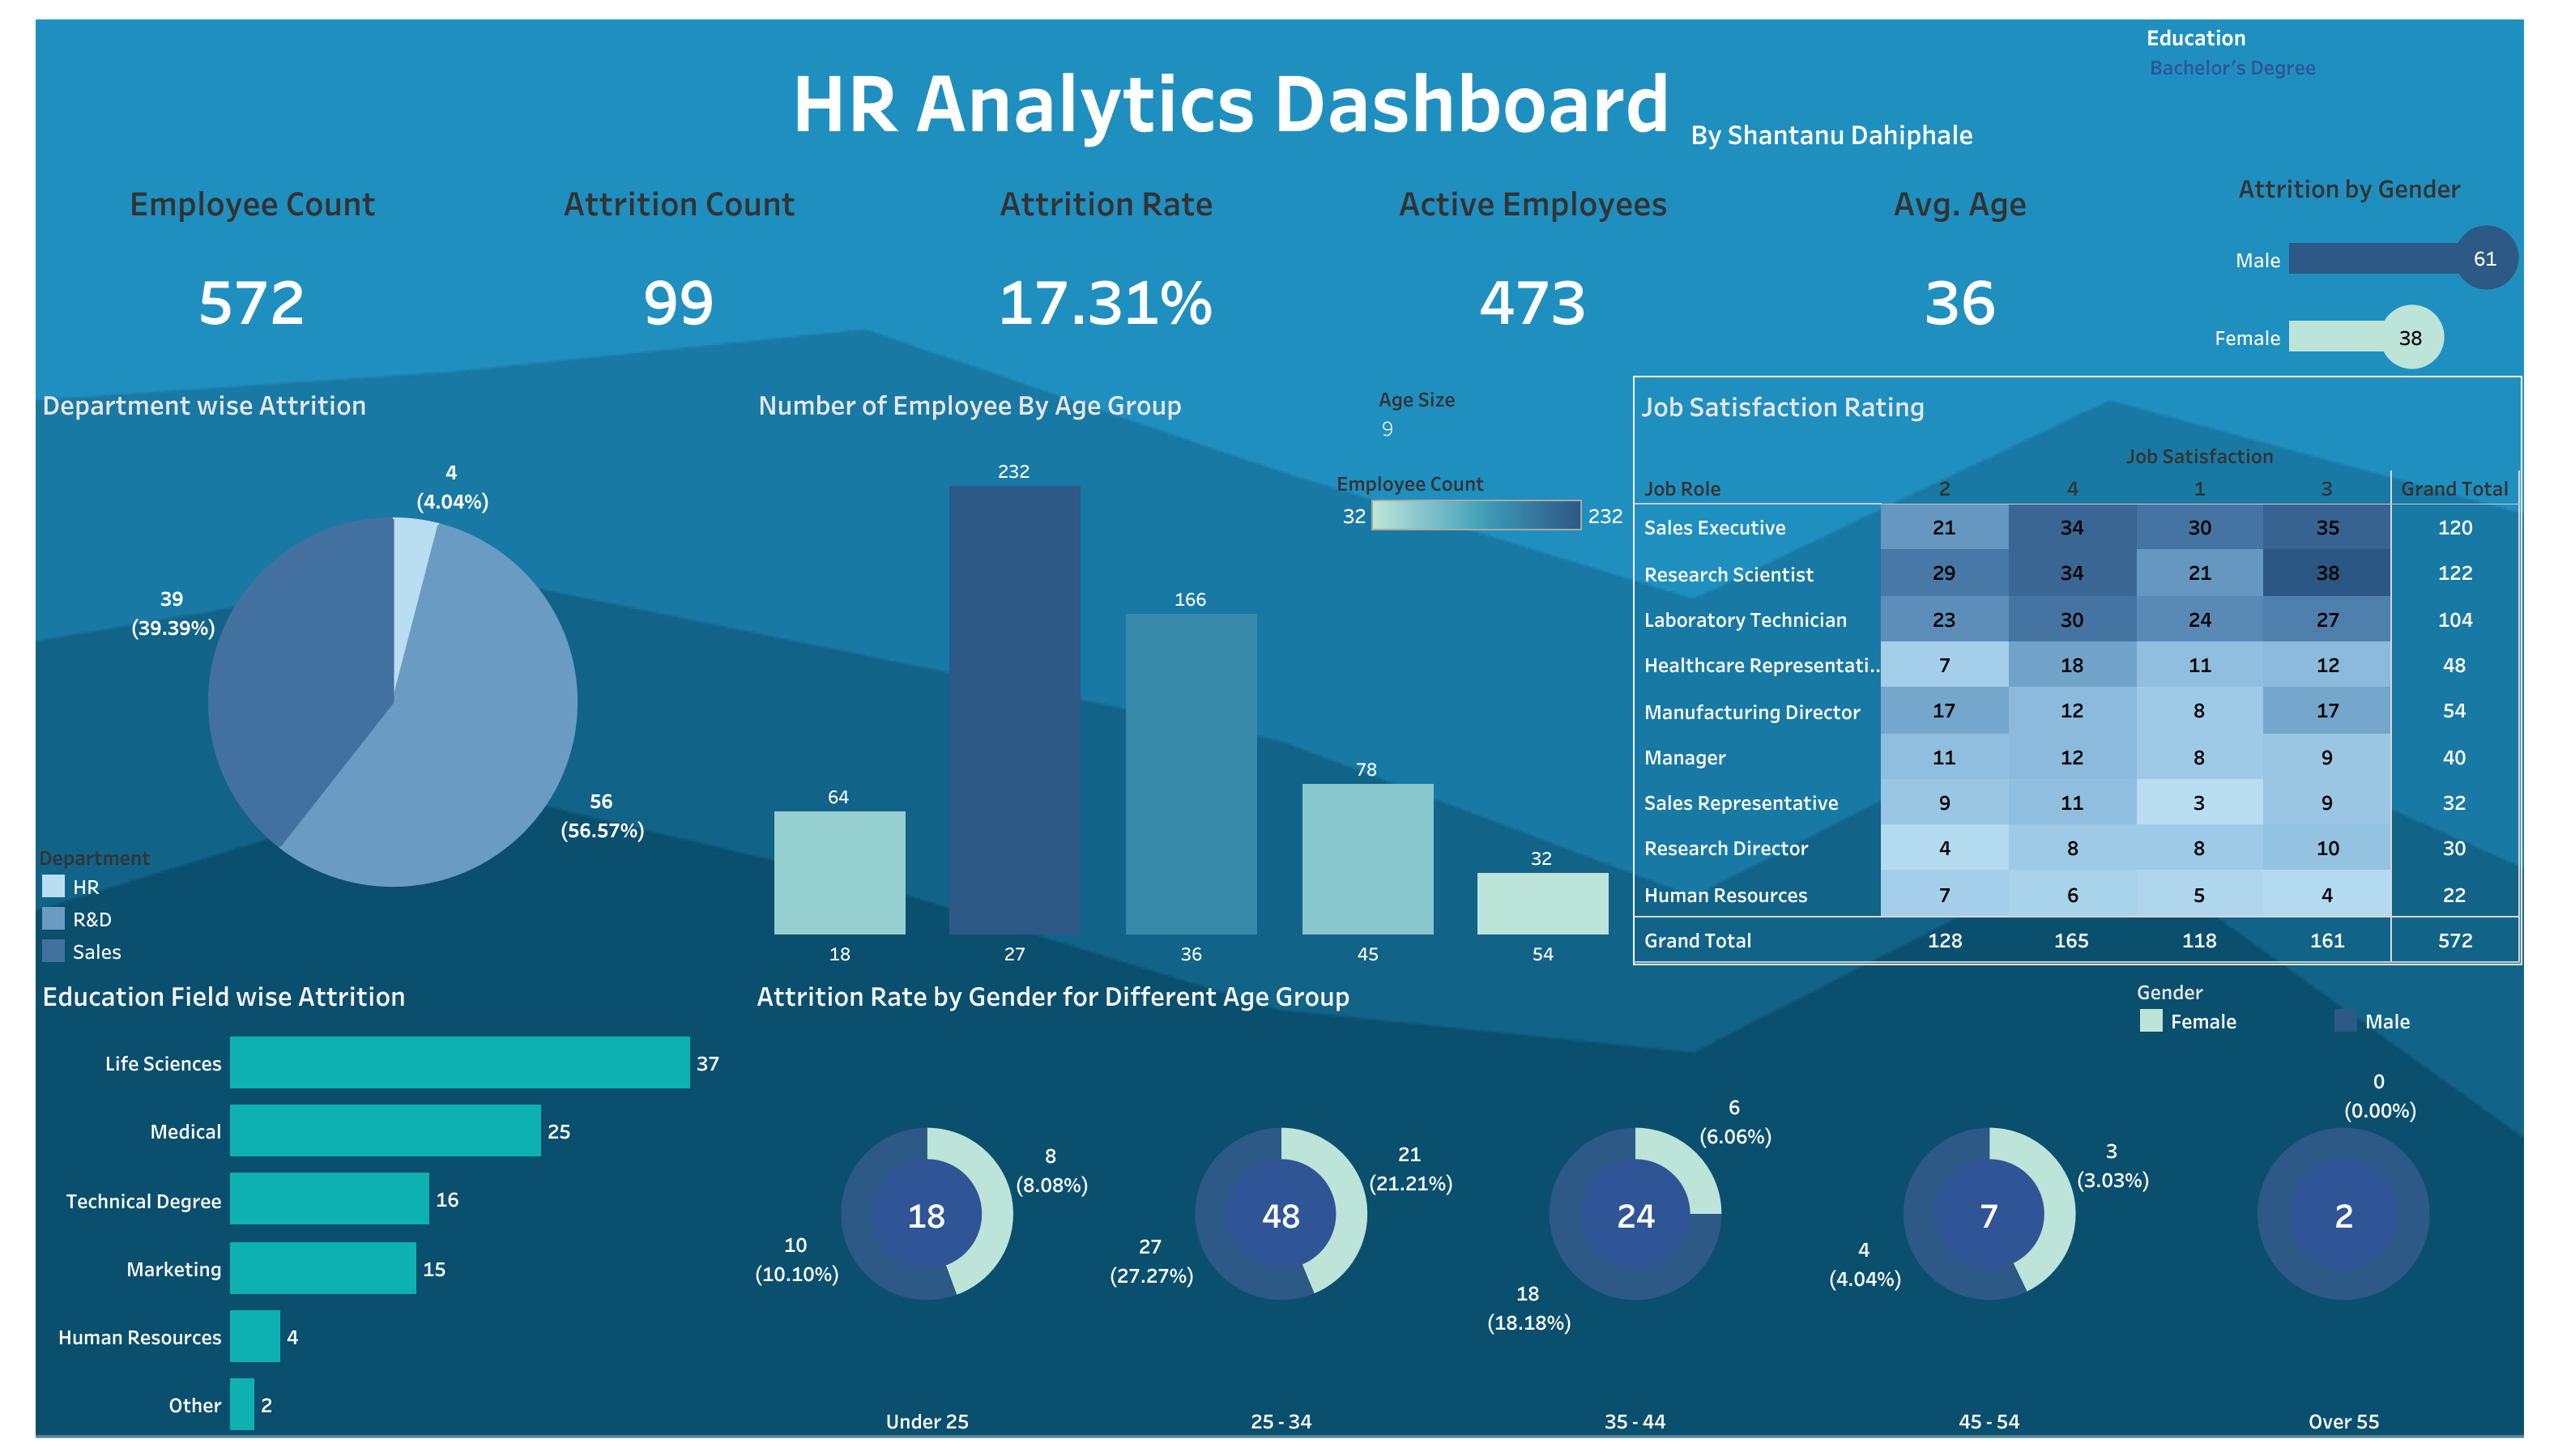

What the dashboard file says about the page in this screenshot:
{"tool":"tableau","page":{"name":"HR Dashboard ","canvas":[1580,900],"ordinal":0},"visuals":[{"type":"image","param":"Image/stacked-peaks-haikei.png","box":[8,8,1564,884]},{"type":"filter","title":"Department wise Attrition","param":"[federated.0f0h03p1it3gvo176rhln1y1tx4v].[none:Education:nk]","box":[1325,12,233,82]},{"type":"text","box":[246,24,1028,74]},{"type":"text","box":[1041,72,184,21]},{"type":"worksheet","title":"KPI","mark":"Text","box":[22,97,1322,135]},{"type":"worksheet","title":"Attrition by Gender","mark":"Automatic","rows":["Gender"],"cols":["Calculation_231935388807032832","Calculation_231935388807032832"],"box":[1341,99,220,133]},{"type":"worksheet","title":"Department wise Attrition","mark":"Pie","box":[22,232,441,365]},{"type":"worksheet","title":"No. of Employee by Age Group","mark":"Automatic","rows":["Employee Count"],"cols":["Age (bin)"],"box":[464,232,543,365]},{"type":"worksheet","title":"Job Satisfaction Rating","mark":"Square","rows":["Job Role"],"cols":["Job Satisfaction"],"box":[1008,232,549,364]},{"type":"parameter","param":"[Parameters].[Age Parameter]","box":[851,236,155,49]},{"type":"legend","title":"No. of Employee by Age Group","param":"[federated.0f0h03p1it3gvo176rhln1y1tx4v].[sum:Employee Count:qk]","box":[825,285,182,44]},{"type":"legend","title":"Department wise Attrition","param":"[federated.0f0h03p1it3gvo176rhln1y1tx4v].[none:Department:nk]","box":[23,518,140,85]},{"type":"worksheet","title":"Education Field wise Attrition","mark":"Automatic","rows":["Education Field"],"cols":["Calculation_231935388807032832"],"box":[22,597,442,291]},{"type":"worksheet","title":"Attrition Rate by Gender for Different Age Group","mark":"Pie","rows":["Calculation_1302666200262176769","Calculation_1302666200262176769"],"cols":["CF_age band"],"box":[463,597,1093,289]},{"type":"legend","title":"Attrition Rate by Gender for Different Age Group","param":"[federated.0f0h03p1it3gvo176rhln1y1tx4v].[none:Gender:nk]","box":[1318,601,239,41]}]}

Visuals, with their boxes in screenshot pixels (x1, y1, x2, y2), scaled from the page's 1580x900 canvas onto the 2558x1456 screenshot:
image: bbox=(13, 13, 2545, 1443)
"Department wise Attrition" filter: bbox=(2145, 19, 2522, 152)
text: bbox=(399, 39, 2062, 159)
text: bbox=(1686, 117, 1983, 151)
"KPI" worksheet (Text marks): bbox=(36, 157, 2176, 375)
"Attrition by Gender" worksheet: bbox=(2171, 160, 2527, 375)
"Department wise Attrition" worksheet (Pie marks): bbox=(36, 375, 749, 966)
"No. of Employee by Age Group" worksheet: bbox=(751, 375, 1631, 966)
"Job Satisfaction Rating" worksheet (Square marks): bbox=(1632, 375, 2521, 964)
parameter: bbox=(1378, 381, 1629, 461)
"No. of Employee by Age Group" legend: bbox=(1336, 461, 1631, 532)
"Department wise Attrition" legend: bbox=(37, 838, 264, 976)
"Education Field wise Attrition" worksheet: bbox=(36, 966, 751, 1437)
"Attrition Rate by Gender for Different Age Group" worksheet (Pie marks): bbox=(749, 966, 2519, 1433)
"Attrition Rate by Gender for Different Age Group" legend: bbox=(2134, 973, 2521, 1039)
